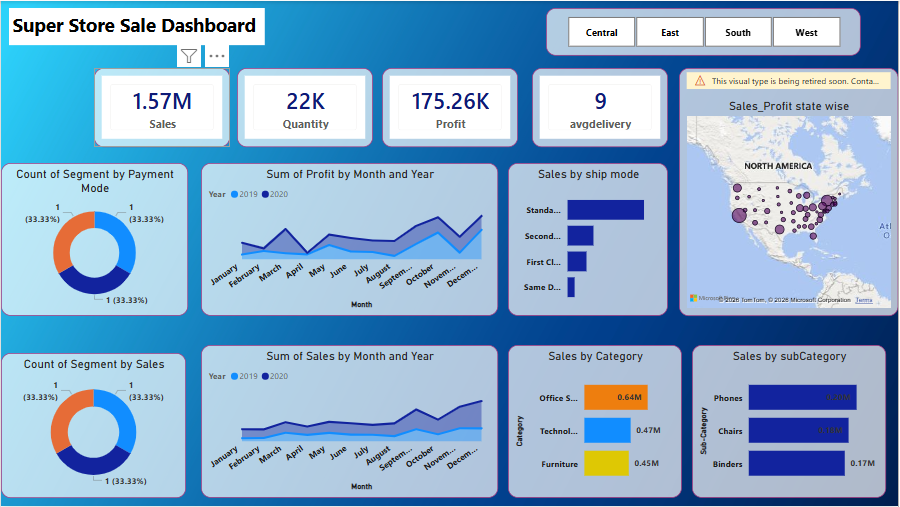

Layout of this report page (visuals, bound fields, positions):
{"tool":"powerbi","page":{"name":"Page 1","canvas":[1280,720],"ordinal":0},"visuals":[{"type":"clusteredBarChart","title":"Sales by Category","fields":{"Category":["Sheet1.Category"],"Y":["Sum(Sheet1.Sales)"]},"box":[723.5,490.9,248.3,218.3],"z":0},{"type":"clusteredBarChart","title":"Sales by subCategory","fields":{"Category":["Sheet1.Sub-Category"],"Y":["Sum(Sheet1.Sales)"]},"box":[986,490.9,276.8,218.3],"z":1000},{"type":"clusteredBarChart","title":"Sales by ship mode ","fields":{"Y":["Sum(Sheet1.Sales)"],"Category":["Sheet1.Ship Mode"]},"box":[723.5,231.2,228.3,218.3],"z":2000},{"type":"stackedAreaChart","fields":{"Y":["Sum(Sheet1.Sales)"],"Category":["Sheet1.Order Date.Variation.Date Hierarchy.Month","Sheet1.Order Date.Variation.Date Hierarchy.Day"],"Series":["Sheet1.Order Date.Variation.Date Hierarchy.Year"]},"box":[285.4,490.9,423.8,218.3],"z":3000},{"type":"stackedAreaChart","fields":{"Category":["Sheet1.Order Date.Variation.Date Hierarchy.Month","Sheet1.Order Date.Variation.Date Hierarchy.Day"],"Series":["Sheet1.Order Date.Variation.Date Hierarchy.Year"],"Y":["Sum(Sheet1.Profit)"]},"box":[285.4,231.2,423.8,218.3],"z":4000},{"type":"map","title":"Sales_Profit state wise ","fields":{"Category":["Sheet1.State"],"Size":["Sum(Sheet1.Sales)"]},"box":[967.5,95.6,312.5,353.9],"z":5000},{"type":"donutChart","fields":{"Y":["CountNonNull(Sheet1.Segment)"],"Category":["Sheet1.Sales"]},"box":[0,502.3,264,206.9],"z":6000},{"type":"donutChart","fields":{"Y":["CountNonNull(Sheet1.Segment)"],"Category":["Sheet1.Payment Mode"]},"box":[0,231.2,266.8,218.3],"z":7000},{"type":"slicer","fields":{"Values":["Sheet1.Region"]},"box":[777.7,10,449.5,68.5],"z":8000},{"type":"textbox","box":[11.4,10,365.3,52.8],"z":9000},{"type":"cardVisual","fields":{"Data":["Sum(Sheet1.Sales)"]},"box":[132.7,95.6,194.1,112.7],"z":10000},{"type":"cardVisual","fields":{"Data":["Sum(Sheet1.Quantity)"]},"box":[336.8,95.6,194.1,112.7],"z":11000},{"type":"cardVisual","fields":{"Data":["Sum(Sheet1.Profit)"]},"box":[543.7,95.6,194.1,112.7],"z":12000},{"type":"cardVisual","fields":{"Data":["Count(Sheet1.avgdelivery)"]},"box":[757.7,95.6,194.1,112.7],"z":13000}]}

Visuals, with their boxes in screenshot pixels (x1, y1, x2, y2), scaled from the page's 1280x720 canvas onto the 900x507 screenshot:
"Sales by Category" clusteredBarChart: box=[509, 346, 683, 499]
"Sales by subCategory" clusteredBarChart: box=[693, 346, 888, 499]
"Sales by ship mode " clusteredBarChart: box=[509, 163, 669, 317]
stackedAreaChart - Sum(Sheet1.Sales) x Sheet1.Order Date.Variation.Date Hierarchy.Month: box=[201, 346, 499, 499]
stackedAreaChart - Sheet1.Order Date.Variation.Date Hierarchy.Month x Sheet1.Order Date.Variation.Date Hierarchy.Day: box=[201, 163, 499, 317]
"Sales_Profit state wise " map: box=[680, 67, 899, 317]
donutChart - CountNonNull(Sheet1.Segment) x Sheet1.Sales: box=[0, 354, 186, 499]
donutChart - CountNonNull(Sheet1.Segment) x Sheet1.Payment Mode: box=[0, 163, 188, 317]
slicer - Sheet1.Region: box=[547, 7, 863, 55]
textbox: box=[8, 7, 265, 44]
cardVisual - Sum(Sheet1.Sales): box=[93, 67, 230, 147]
cardVisual - Sum(Sheet1.Quantity): box=[237, 67, 373, 147]
cardVisual - Sum(Sheet1.Profit): box=[382, 67, 519, 147]
cardVisual - Count(Sheet1.avgdelivery): box=[533, 67, 669, 147]
